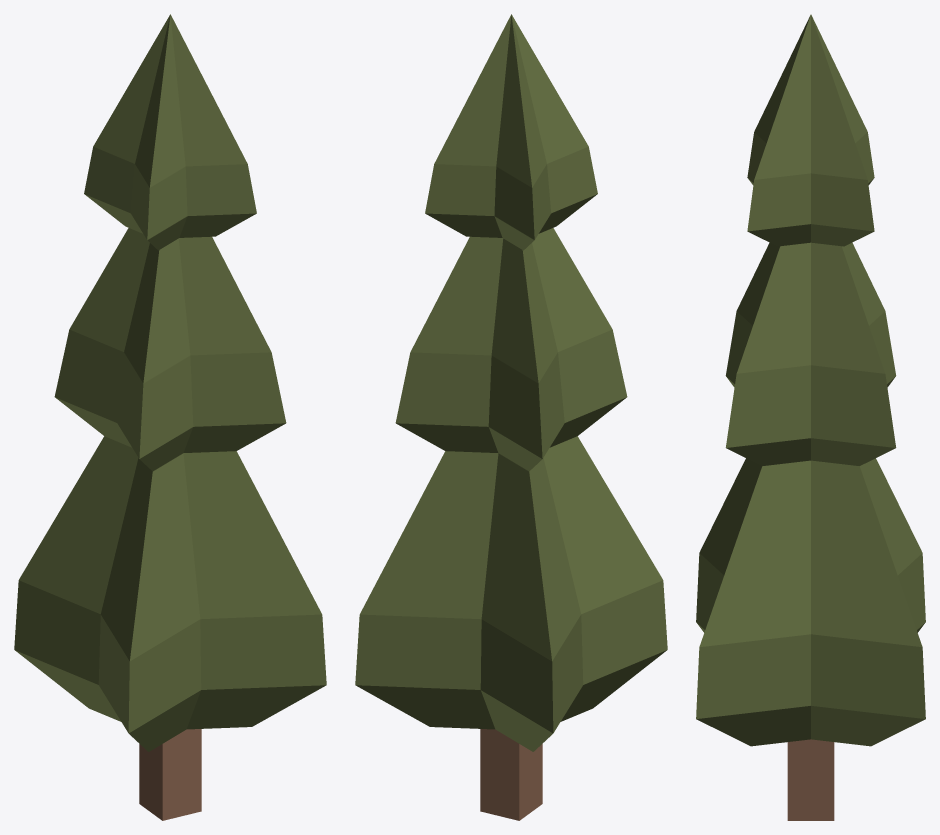
File: fir_tree_20.fbx
The picture shows the model from 3 angles, left to right: view 1: azimuth 30°, elevation 25°; view 2: azimuth 150°, elevation 25°; view 3: azimuth 270°, elevation 25°; orthographic projection.
Visible parts, largest first — view 1: fir_tree_20; view 2: fir_tree_20; view 3: fir_tree_20.
Part boxes in pixels (box(x1,y1,x2,y2)): fir_tree_20: box(14, 14, 326, 820); fir_tree_20: box(355, 14, 667, 820); fir_tree_20: box(696, 14, 925, 820).
Size of the model in its own units: 144 by 551 by 144.
